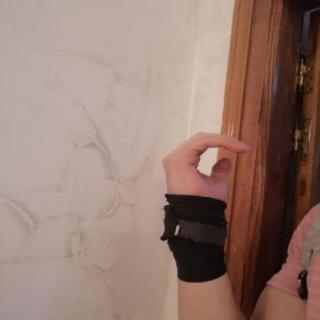JEEM: (147, 124, 270, 218)
